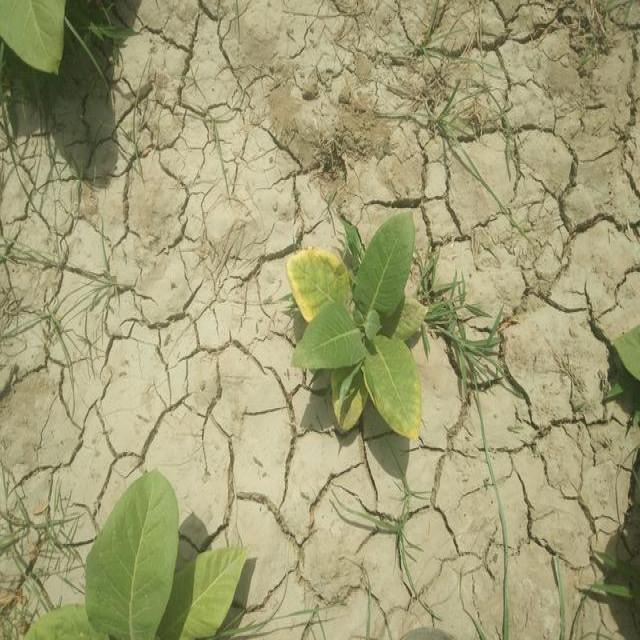crop: (18, 474, 240, 640), (282, 214, 419, 430), (5, 0, 70, 77)
